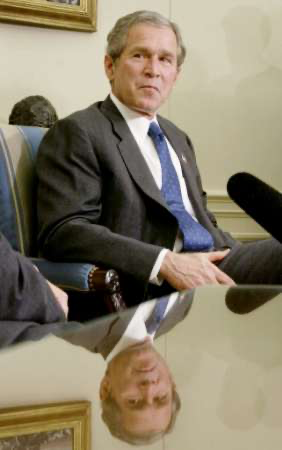Face: (107, 37, 187, 120), (103, 351, 174, 434)
